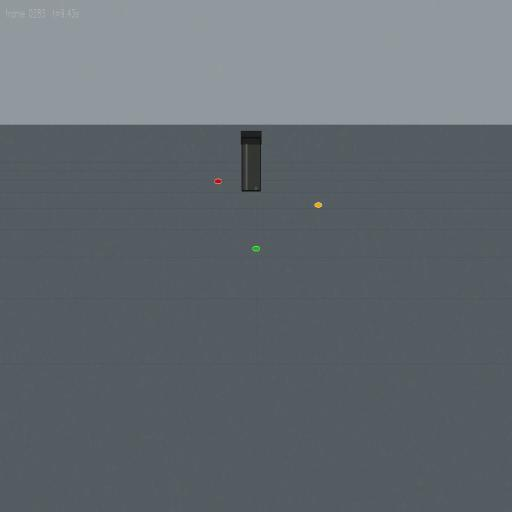bin: (240, 130, 262, 192)
